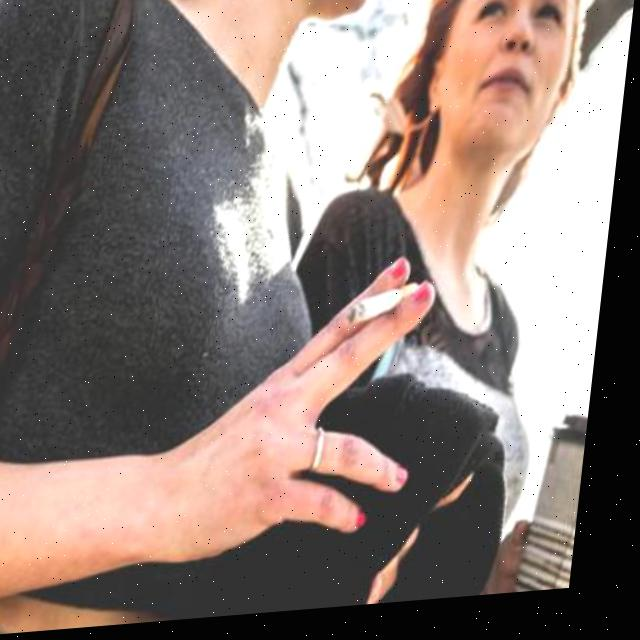cigarette: (351, 288, 432, 328)
